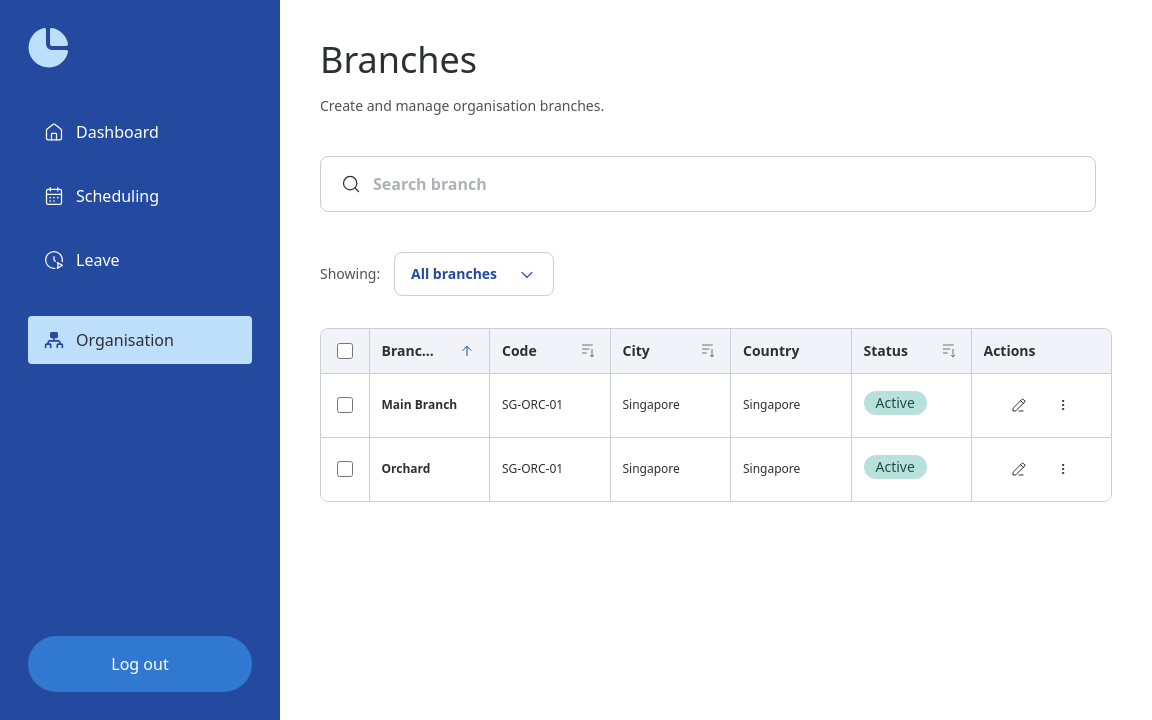
Scenario: Branches › searches the loaded branches by name without asking the server again
Check: the text "Orchard" is shown, box [369,437,490,501]
Type "  orch " into the search field labelled "Search branch" at point(724, 184), box [373,172,1075,196]
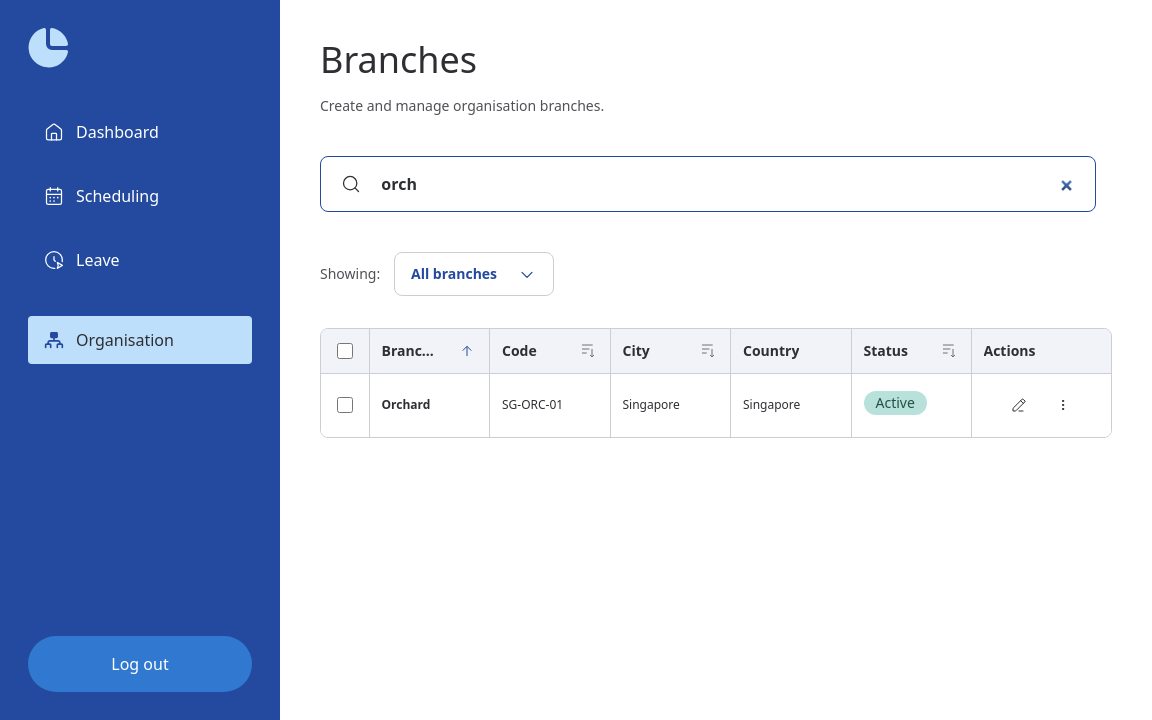
Check: the text "Orchard" is shown, box [369,373,490,437]
Type "zzz" into the search field named "Search branch" at point(724, 184), box [373,172,1075,196]
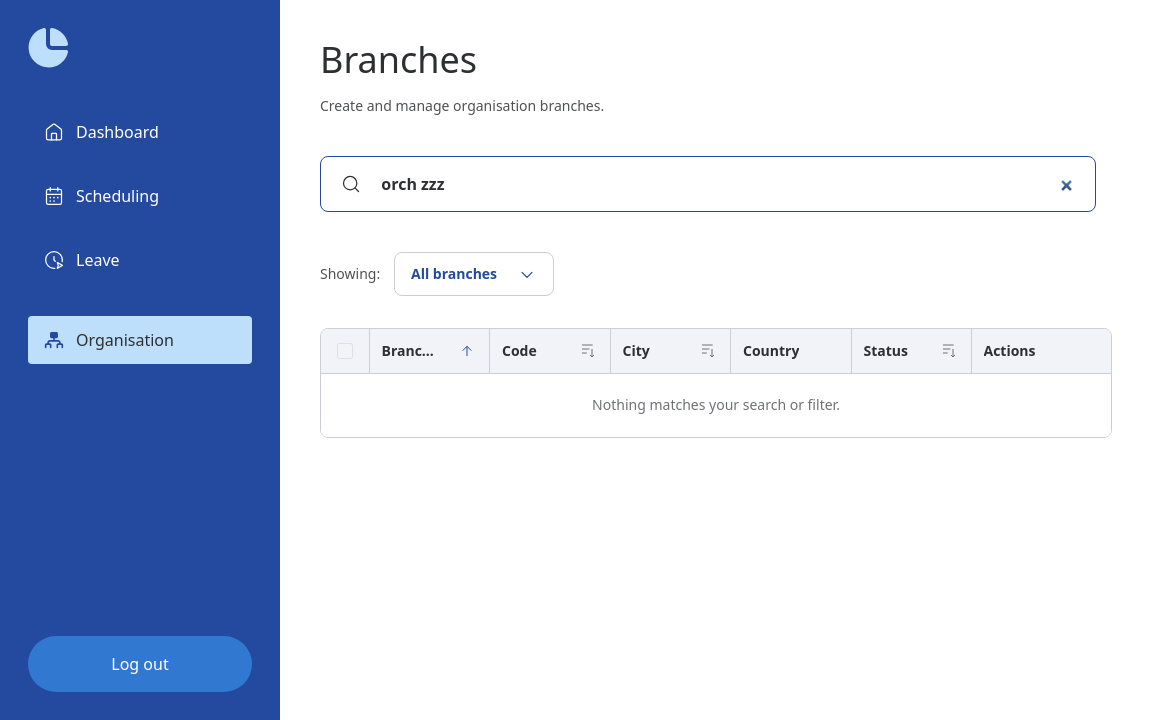
Check: the cell "Nothing matches your search or filter." is shown, box [321,373,1111,437]
